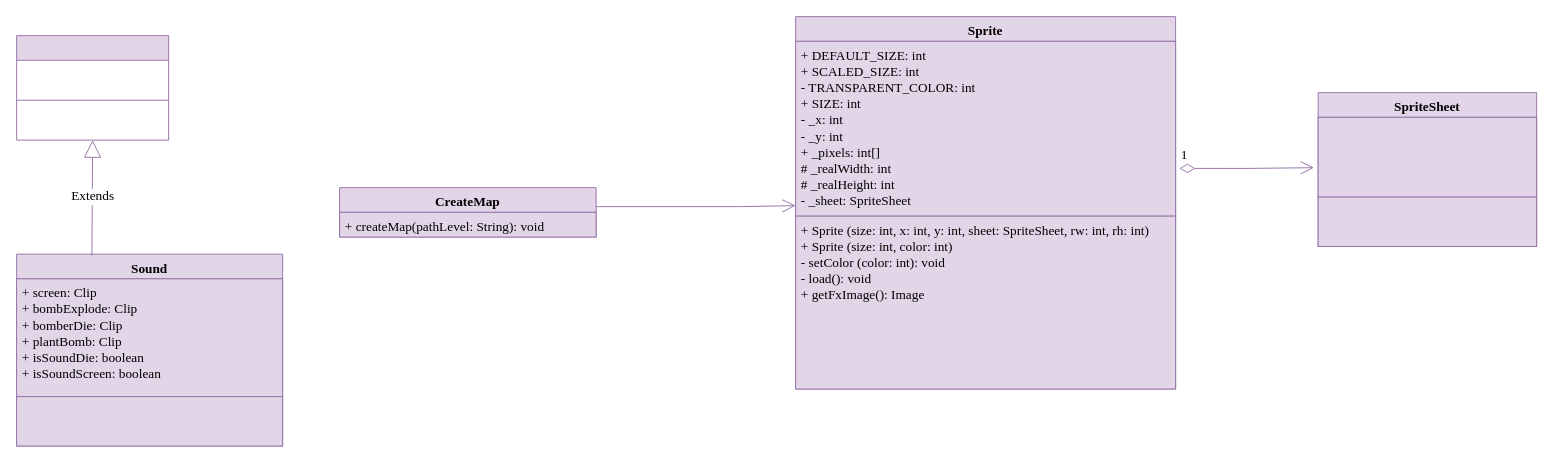
The diagram is 1553 pixels wide and 466 high, and some of its shapes have lost their labels. Each missing label, with the box of its shape:
+ Sound(name: String, sound: String) + updateSound(): void: (16, 396, 283, 446)
+ SpriteSheet(path: String, size: int) - load(): void: (1317, 196, 1537, 247)
- _path: String + SIZE: int + _pixels: int[] + image: BufferedImage: (1317, 116, 1537, 197)
java.swing.JFrame: (16, 35, 169, 140)
